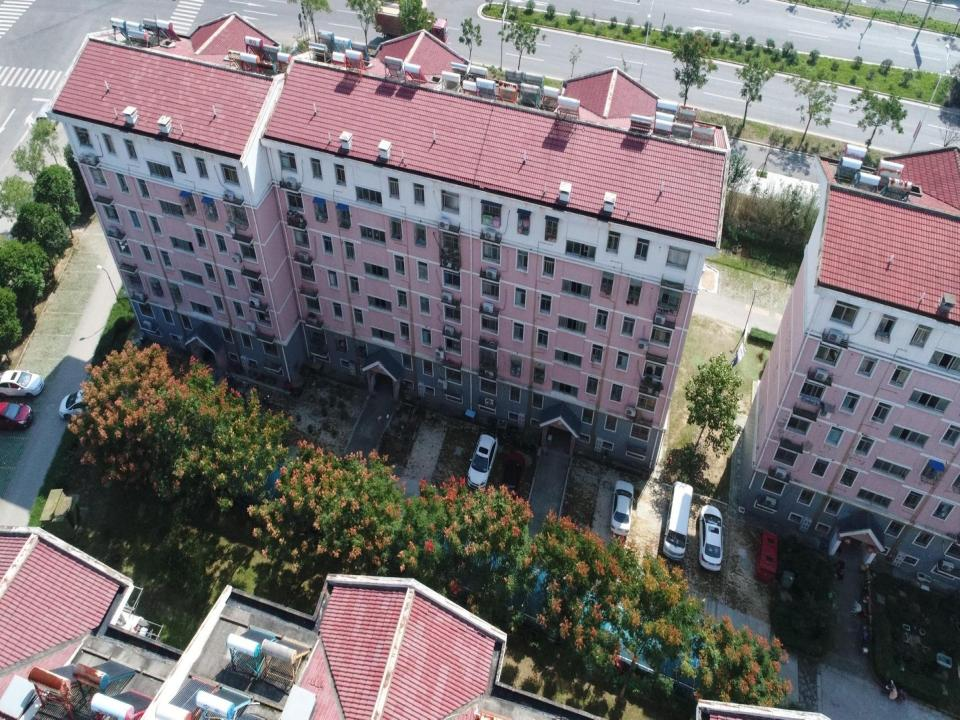bus: (372, 4, 450, 44)
car: (467, 430, 498, 491), (698, 505, 722, 570), (59, 389, 109, 420), (610, 480, 635, 536), (501, 452, 524, 502), (18, 370, 45, 399), (18, 403, 34, 430)
van: (662, 481, 693, 560), (757, 530, 778, 583)
